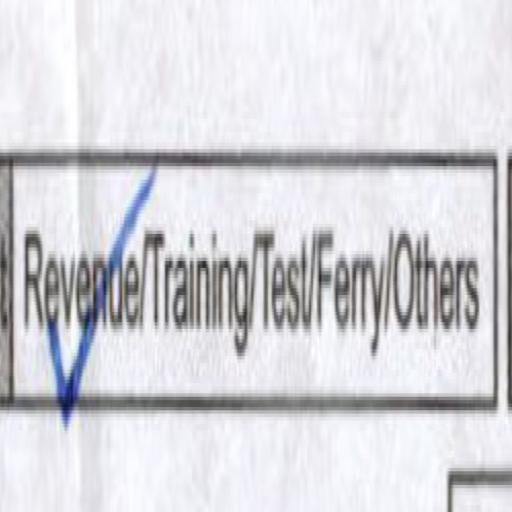check: (20, 86, 144, 446)
